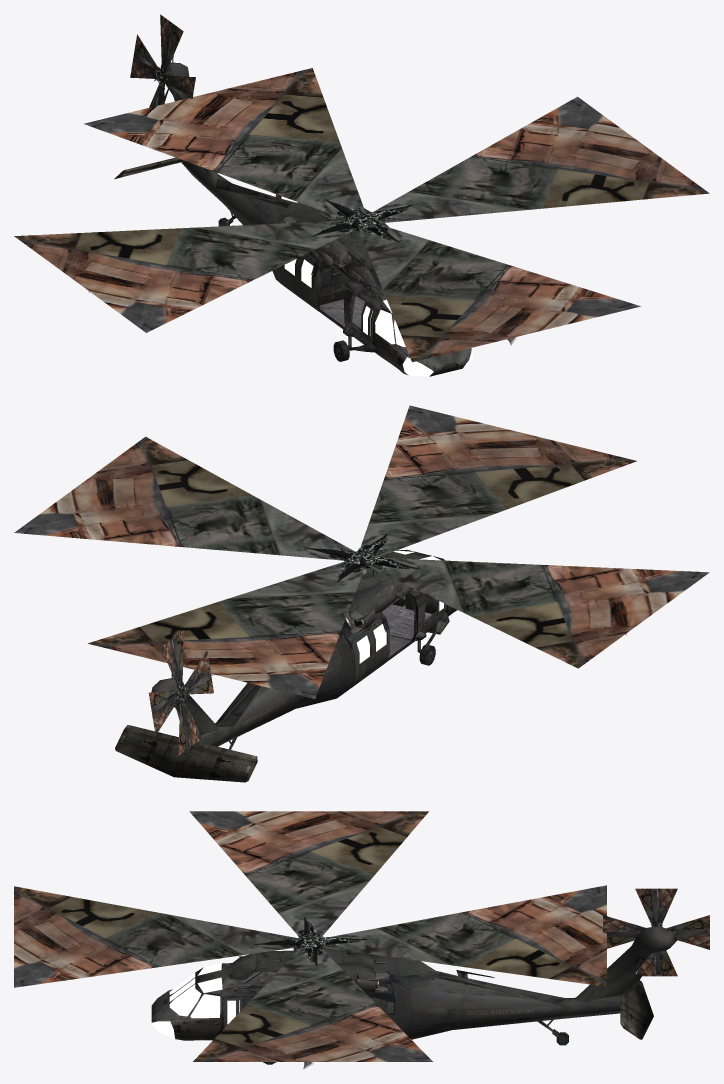
The model's file is fblkhawk.glb.
3 renders of one model, top to bottom at view 1: azimuth 30°, elevation 25°; view 2: azimuth 150°, elevation 25°; view 3: azimuth 270°, elevation 25°, orthographic. The views are drawn at different scales.
Parts seen in each view (by area): view 1: 03 Mesh0.003, 01 Mesh0, 03 Mesh1, 01 Mesh0.001, 01 Mesh0.002, 05 Mesh0.003, 01 Mesh0.003, 02 Mesh0, 01 Mesh1.002; view 2: 03 Mesh0.003, 01 Mesh0, 03 Mesh1, 01 Mesh0.001, 05 Mesh0.003, 01 Mesh0.002, 02 Mesh0; view 3: 03 Mesh0.003, 01 Mesh0, 03 Mesh1, 01 Mesh0.001, 05 Mesh0.003, 01 Mesh0.002, 01 Mesh2, 02 Mesh0, 01 Mesh1.002, 04 Mesh0.003.
Boxes of the visible parts, left/top/right/bottom form: 03 Mesh0.003: left=14, top=68, right=709, bottom=362; 01 Mesh0: left=121, top=62, right=471, bottom=376; 03 Mesh1: left=361, top=140, right=645, bottom=334; 01 Mesh0.001: left=114, top=62, right=470, bottom=361; 01 Mesh0.002: left=115, top=65, right=419, bottom=371; 05 Mesh0.003: left=130, top=14, right=195, bottom=107; 01 Mesh0.003: left=115, top=96, right=374, bottom=328; 02 Mesh0: left=88, top=199, right=516, bottom=345; 01 Mesh1.002: left=284, top=259, right=402, bottom=346; 03 Mesh0.003: left=14, top=405, right=709, bottom=698; 01 Mesh0: left=115, top=550, right=457, bottom=779; 03 Mesh1: left=76, top=432, right=532, bottom=528; 01 Mesh0.001: left=115, top=553, right=450, bottom=782; 05 Mesh0.003: left=148, top=630, right=213, bottom=755; 01 Mesh0.002: left=172, top=577, right=446, bottom=745; 02 Mesh0: left=211, top=534, right=626, bottom=675; 03 Mesh0.003: left=14, top=811, right=606, bottom=1061; 01 Mesh0: left=151, top=926, right=665, bottom=1045; 03 Mesh1: left=15, top=924, right=349, bottom=1060; 01 Mesh0.001: left=161, top=926, right=676, bottom=1064; 05 Mesh0.003: left=603, top=888, right=709, bottom=976; 01 Mesh0.002: left=175, top=955, right=573, bottom=1025; 01 Mesh2: left=151, top=963, right=222, bottom=1038; 02 Mesh0: left=253, top=917, right=367, bottom=1069; 01 Mesh1.002: left=180, top=990, right=239, bottom=1024; 04 Mesh0.003: left=604, top=889, right=708, bottom=975.
Size of the model in its own units: 25.11 by 7.26 by 29.48.
10 materials, 6 textured.
